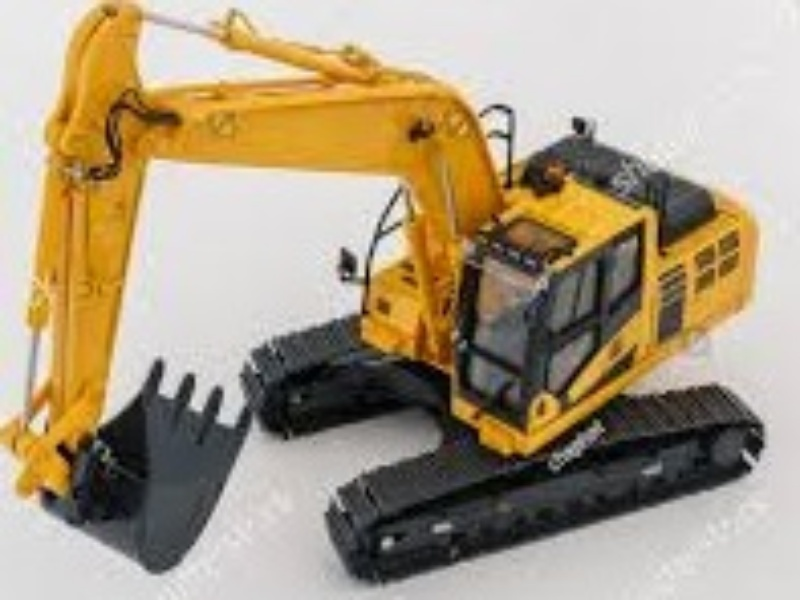wajueji: (235, 55, 783, 600)
